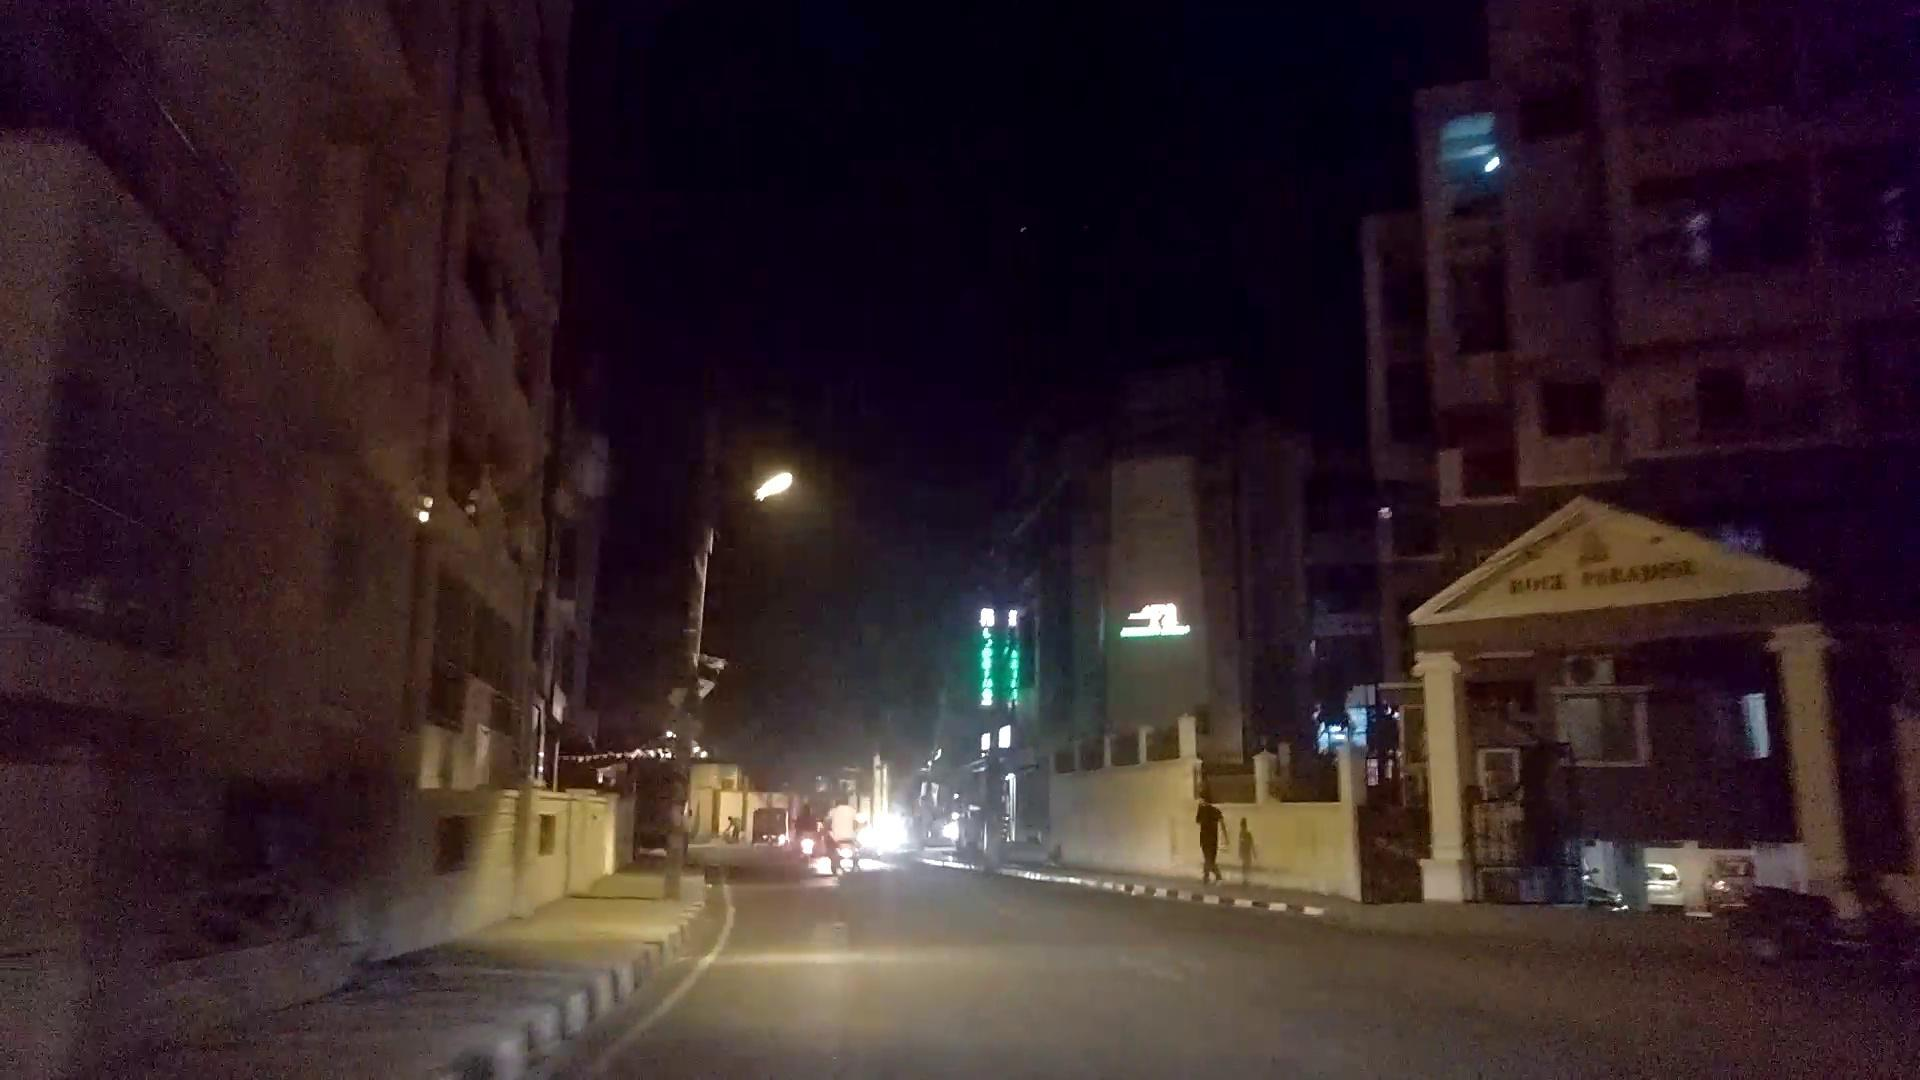on: (640, 402, 903, 611)
